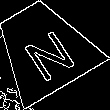N_NW: (12, 16, 75, 80)
